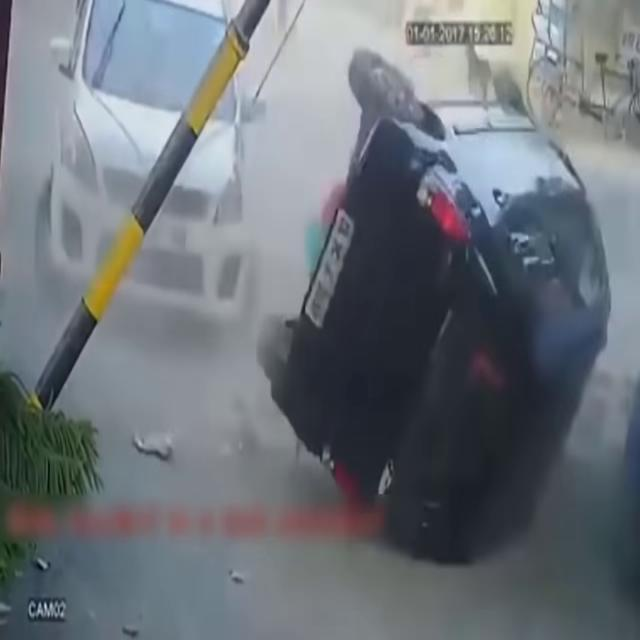accident: (256, 25, 612, 578)
